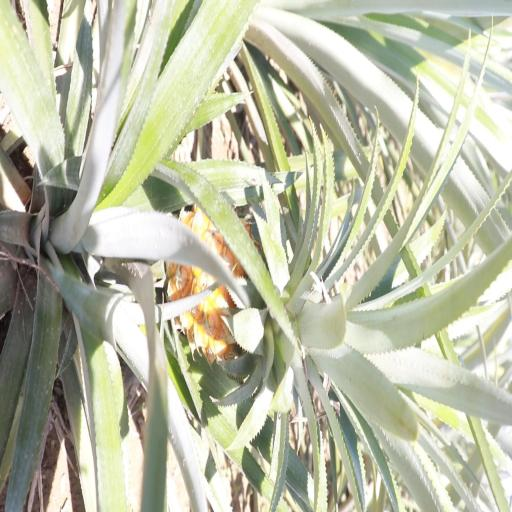Pineapple - v8 v1: (173, 194, 410, 383)
